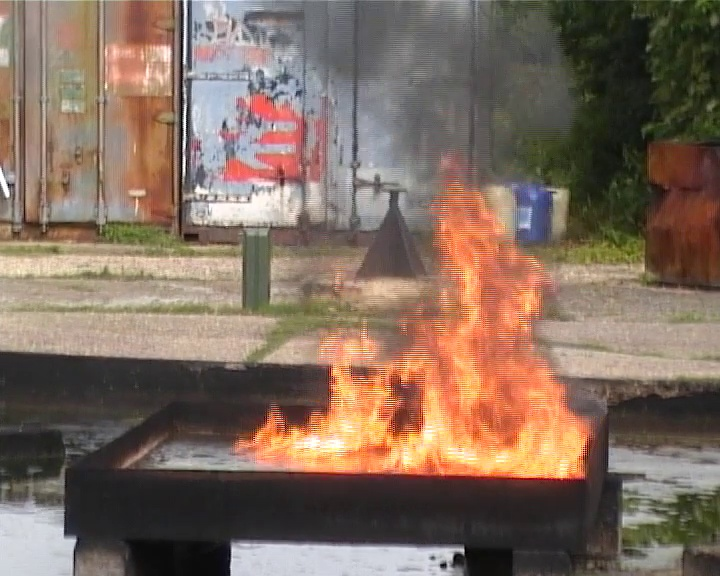fire: (240, 184, 589, 476)
